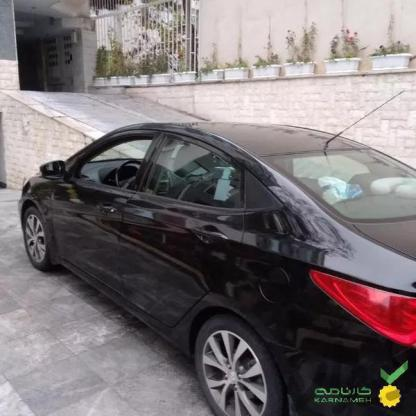Car: (0, 115, 416, 416)
